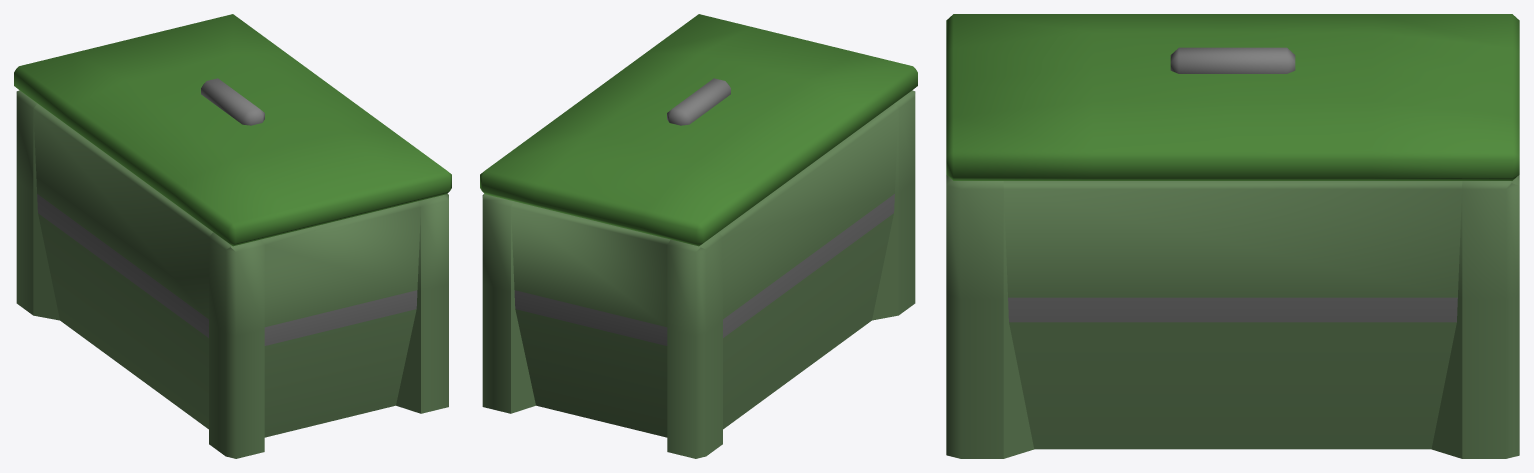
The model's file is AmmoBox.fbx.
The picture shows the model from 3 angles, left to right: view 1: azimuth 30°, elevation 25°; view 2: azimuth 150°, elevation 25°; view 3: azimuth 270°, elevation 25°; orthographic projection. The views are drawn at different scales.
Parts seen in each view (by area): view 1: Cube, Cube.001; view 2: Cube, Cube.001; view 3: Cube, Cube.001.
Boxes of the visible parts, x1,y1,x2,y2 form: Cube: [16, 90, 448, 458]; Cube.001: [14, 14, 451, 246]; Cube: [482, 90, 915, 458]; Cube.001: [480, 14, 917, 246]; Cube: [946, 175, 1519, 458]; Cube.001: [946, 14, 1519, 180].
Size of the model in its own units: 200 by 220 by 340.
